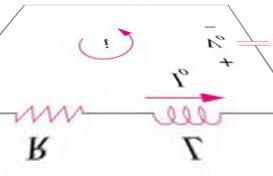inductor: (132, 101, 227, 134)
